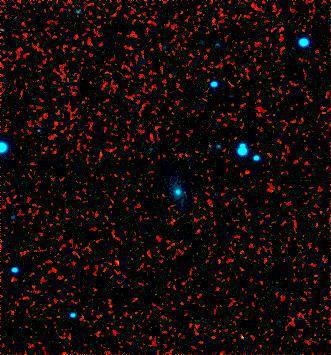star: (104, 245, 134, 275)
